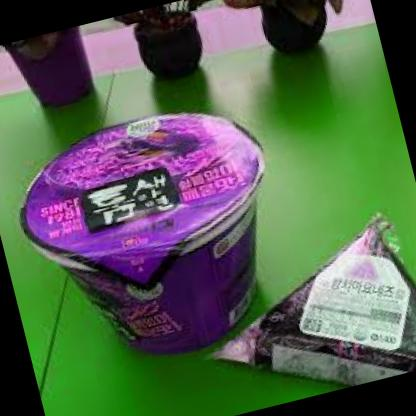Ramen: (0, 81, 319, 396)
